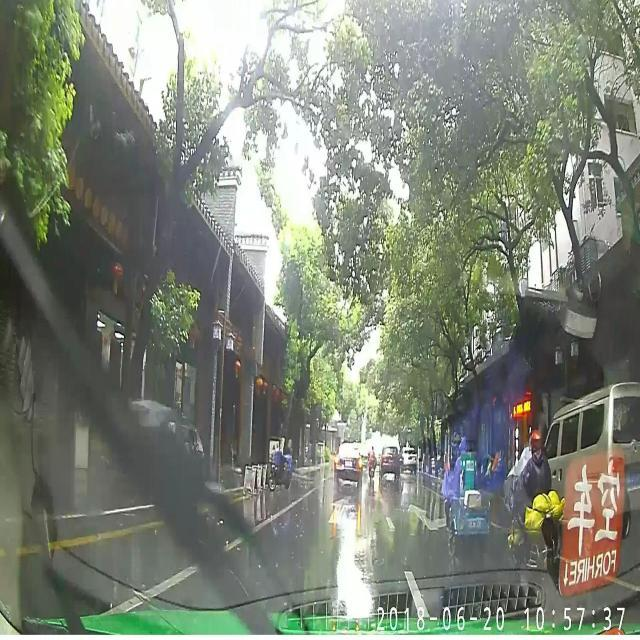car: (334, 439, 362, 486), (380, 443, 400, 478), (402, 446, 416, 474)
